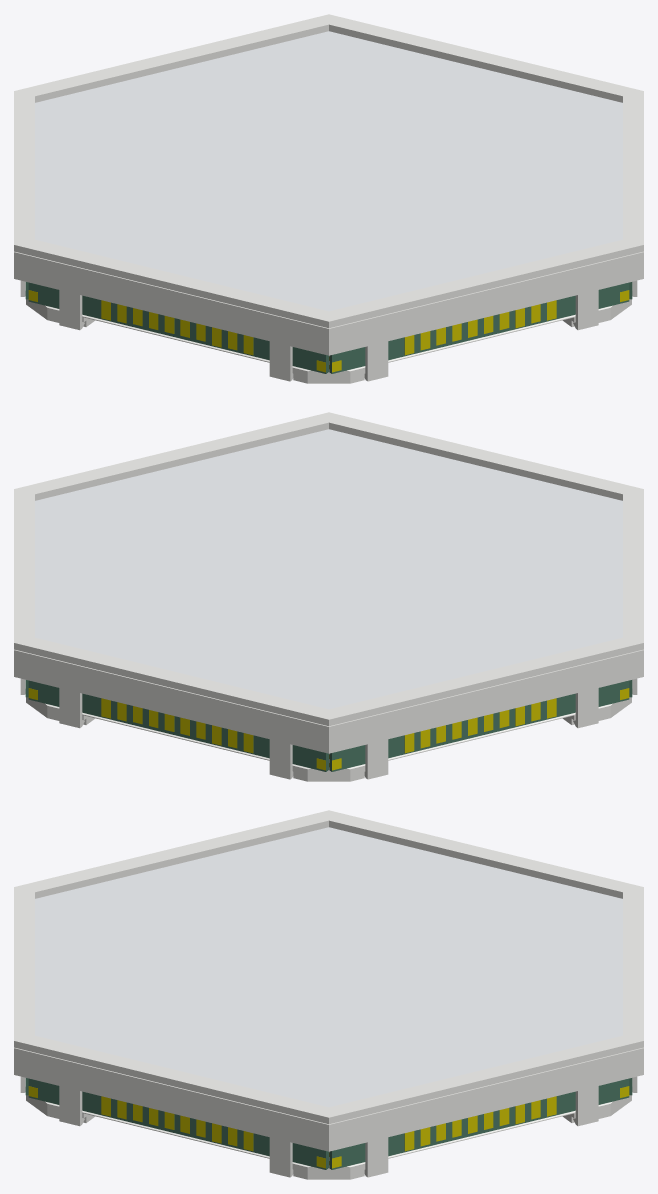
The model's file is panel_hex.glb.
3 views of the same model, one above another, from view 1: azimuth 30°, elevation 25°; view 2: azimuth 150°, elevation 25°; view 3: azimuth 270°, elevation 25° (orthographic).
Parts seen in each view (by area): view 1: Film, Bezel, Frame, edge-board-hex_PCB (×2), Back plate; view 2: Film, Bezel, Frame, edge-board-hex_PCB (×2), Back plate; view 3: Film, Bezel, Frame, edge-board-hex_PCB (×2), Back plate.
Boxes of the visible parts, box(x1,y1,x2,y2) form: Film: box(35, 31, 622, 311); Bezel: box(14, 14, 643, 328); Frame: box(14, 251, 643, 381); edge-board-hex_PCB (×2): box(28, 282, 629, 373); Back plate: box(26, 299, 631, 383); Film: box(35, 429, 622, 709); Bezel: box(14, 412, 643, 726); Frame: box(14, 649, 643, 779); edge-board-hex_PCB (×2): box(28, 680, 629, 771); Back plate: box(26, 697, 631, 781); Film: box(35, 827, 622, 1107); Bezel: box(14, 810, 643, 1124); Frame: box(14, 1047, 643, 1177); edge-board-hex_PCB (×2): box(28, 1078, 629, 1169); Back plate: box(26, 1095, 631, 1179).
Size of the model in its own units: 0.1993 by 0.0221 by 0.1726.
